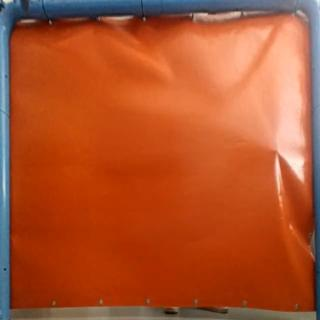Hit-hRxx: (269, 142, 286, 160)
